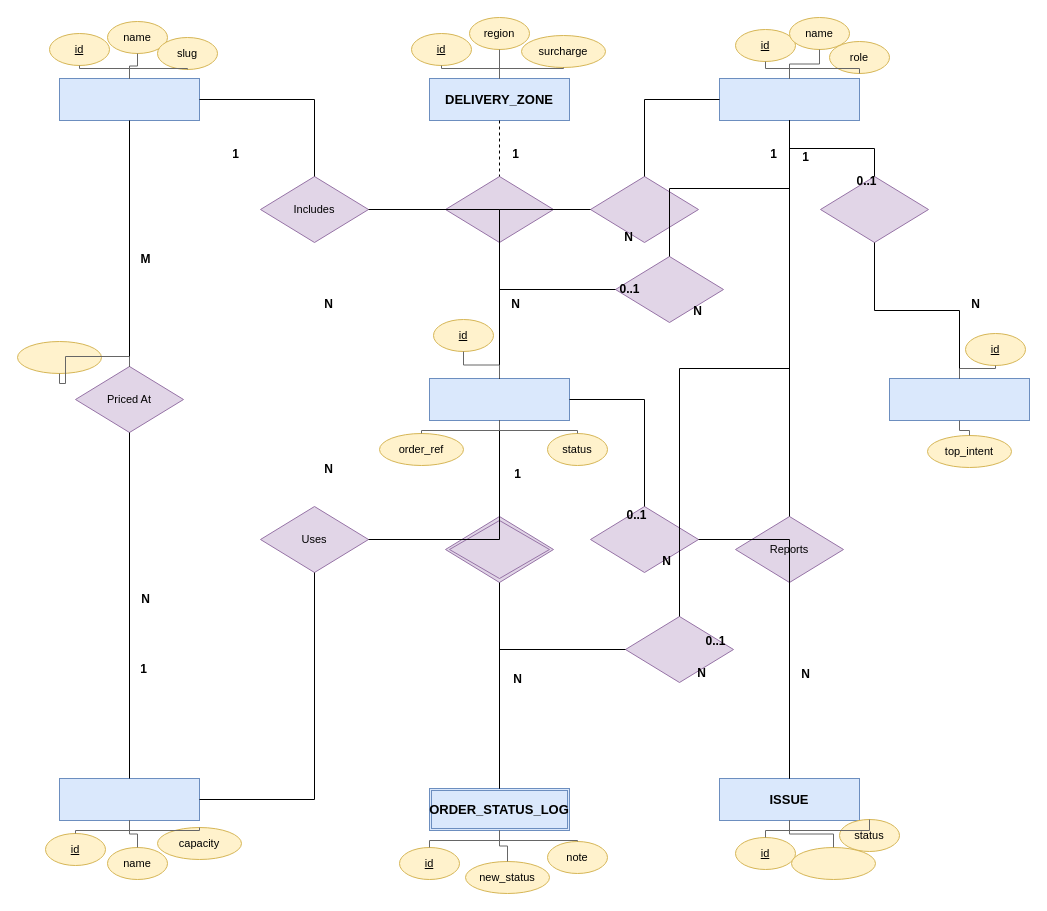
Image size: 1047x911. Some labels were removed from this diagram. Here are the shapes that lost their labels. From the top down, the box of each, then its label:
(58, 78, 200, 120): SAND_TYPE
(718, 78, 860, 120): USER
(444, 176, 554, 242): Covers
(590, 176, 698, 242): Places
(820, 176, 928, 242): Initiates
(614, 256, 724, 322): Assigned
(16, 340, 102, 374): price_ghs
(428, 378, 570, 420): ORDER
(888, 378, 1030, 420): CHATBOT_LOG
(444, 516, 554, 582): Has Log
(590, 506, 698, 572): Concerns
(624, 616, 734, 682): Changes
(58, 778, 200, 820): TRUCK_TYPE
(790, 846, 876, 880): issue_type
